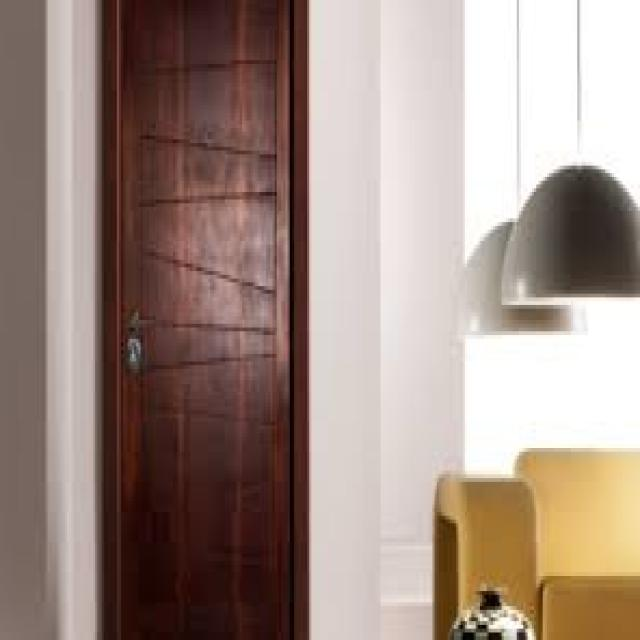door: (102, 0, 307, 640)
